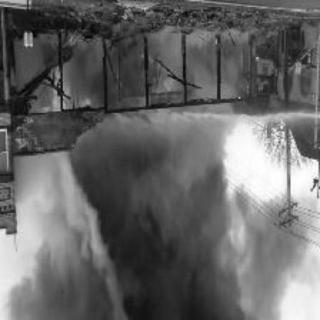Fire: (123, 46, 195, 114), (35, 54, 97, 116)
Smoke: (10, 119, 259, 319)
